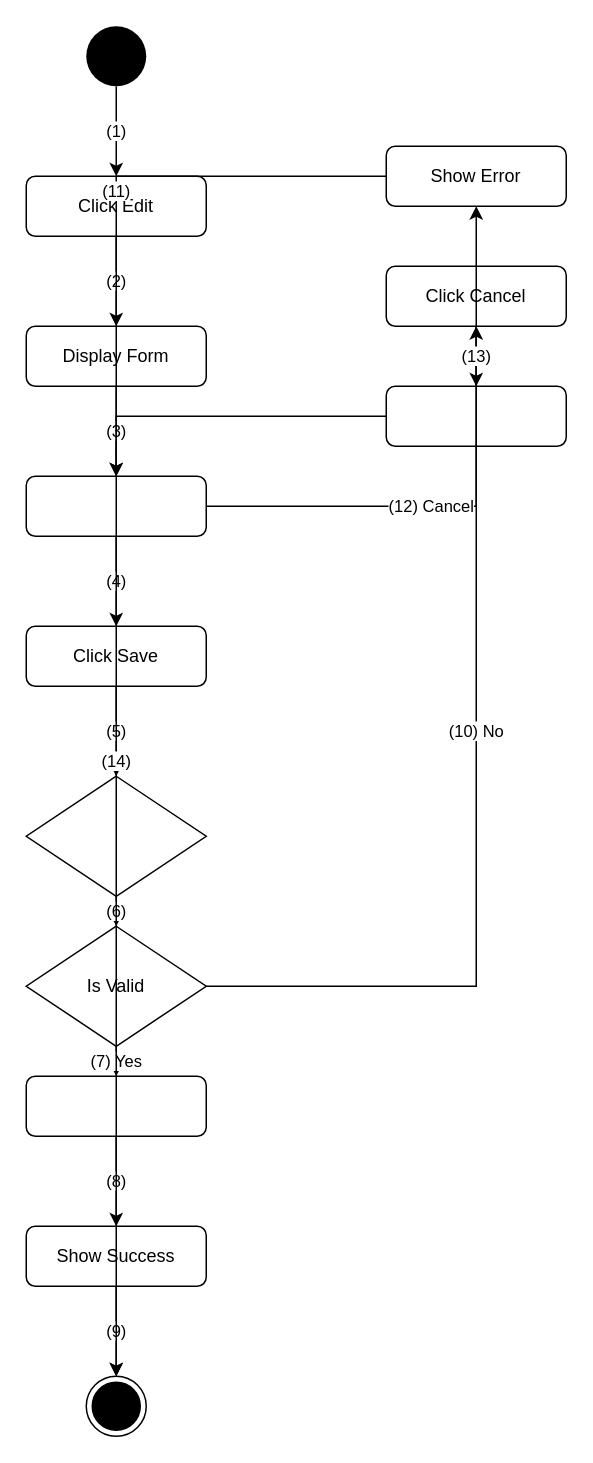
This 593x1463 diagram has some shape labels left out. Each missing label, with the box of its shape:
Discard Changes: (385, 385, 566, 446)
Modify Data: (25, 475, 206, 536)
Update DB: (25, 1075, 206, 1136)
Validate Data: (25, 775, 206, 896)
